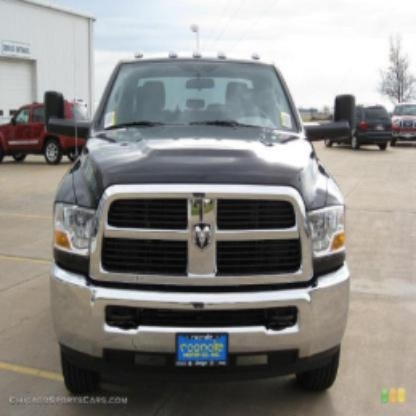Vehicle: (45, 53, 351, 415)
